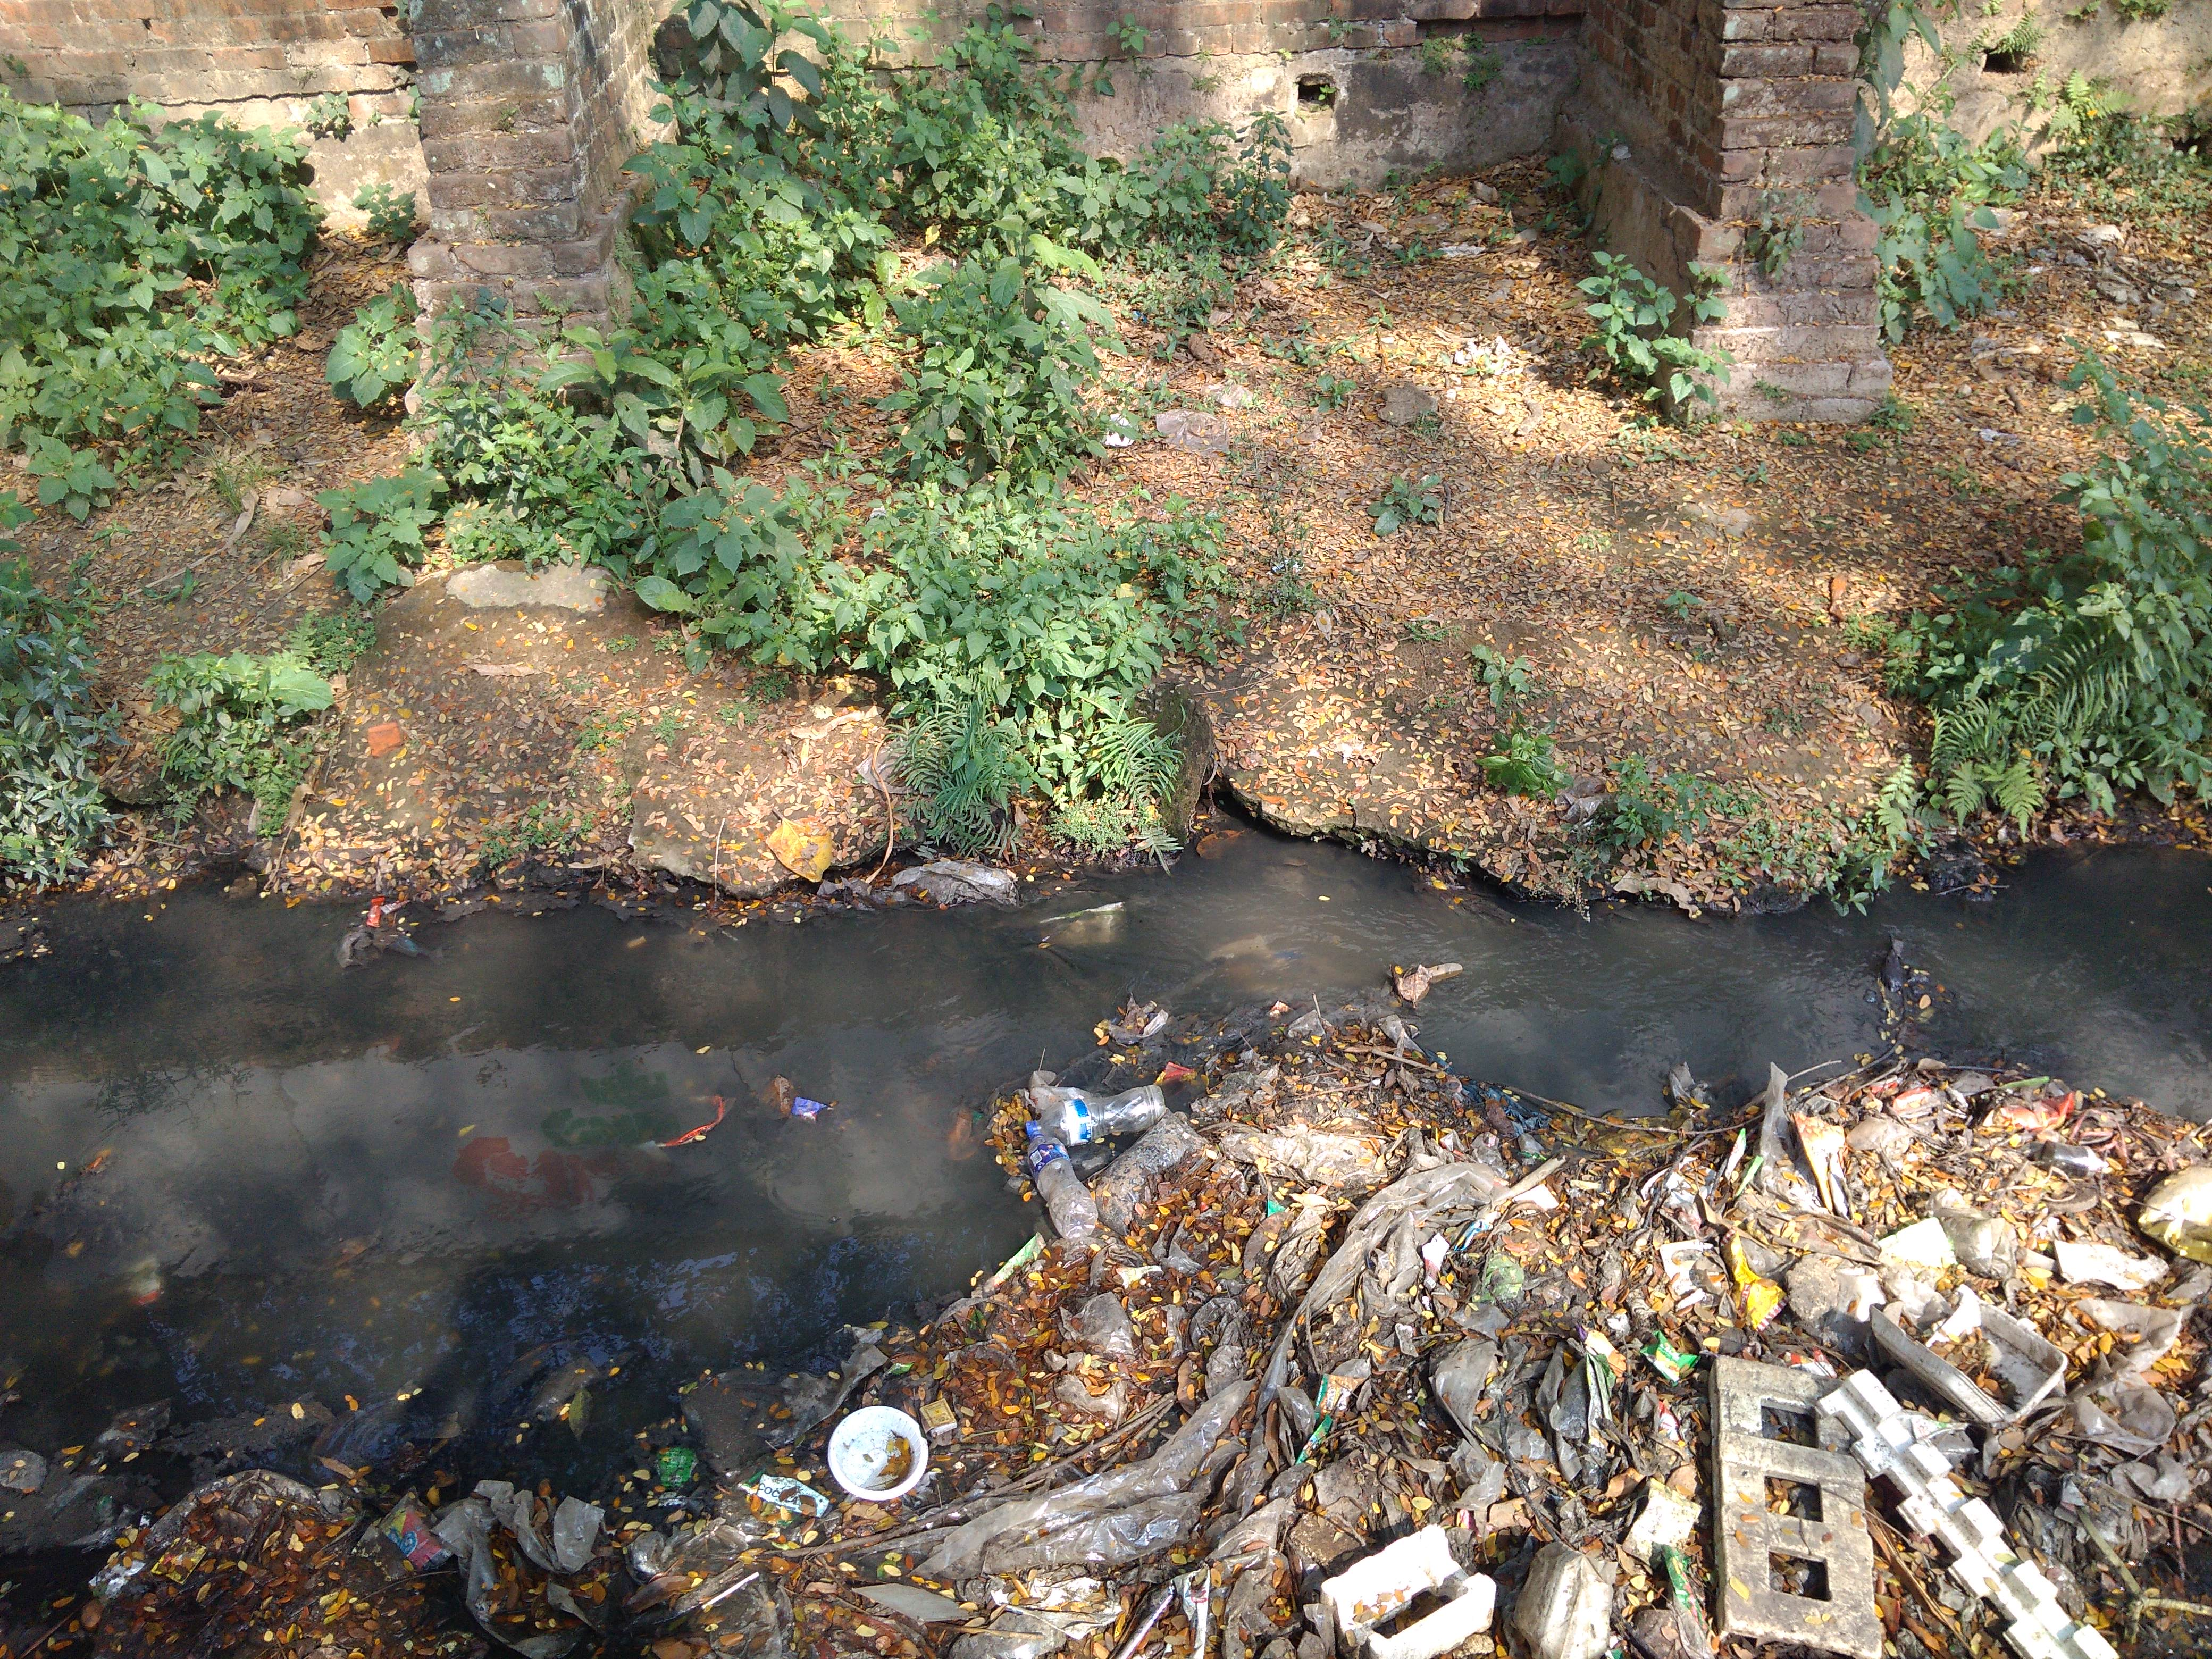Plastic Bottle: (1026, 1084, 1167, 1145), (1028, 1131, 1097, 1239)
